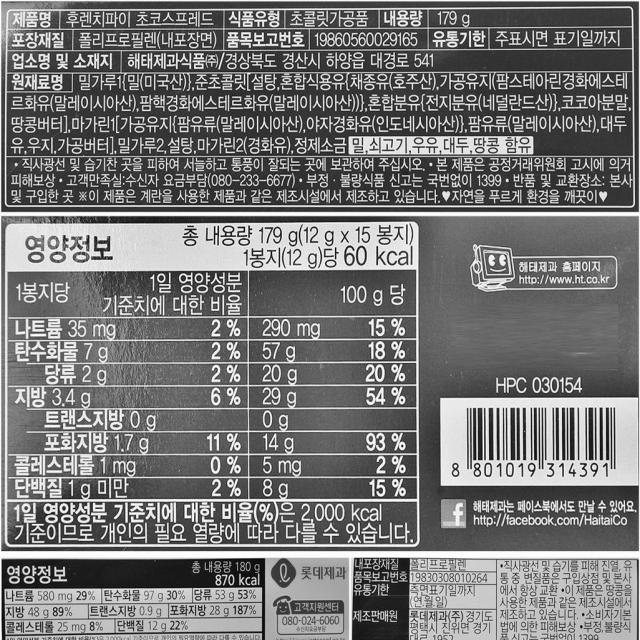Nutrition Label: (0, 211, 430, 564)
